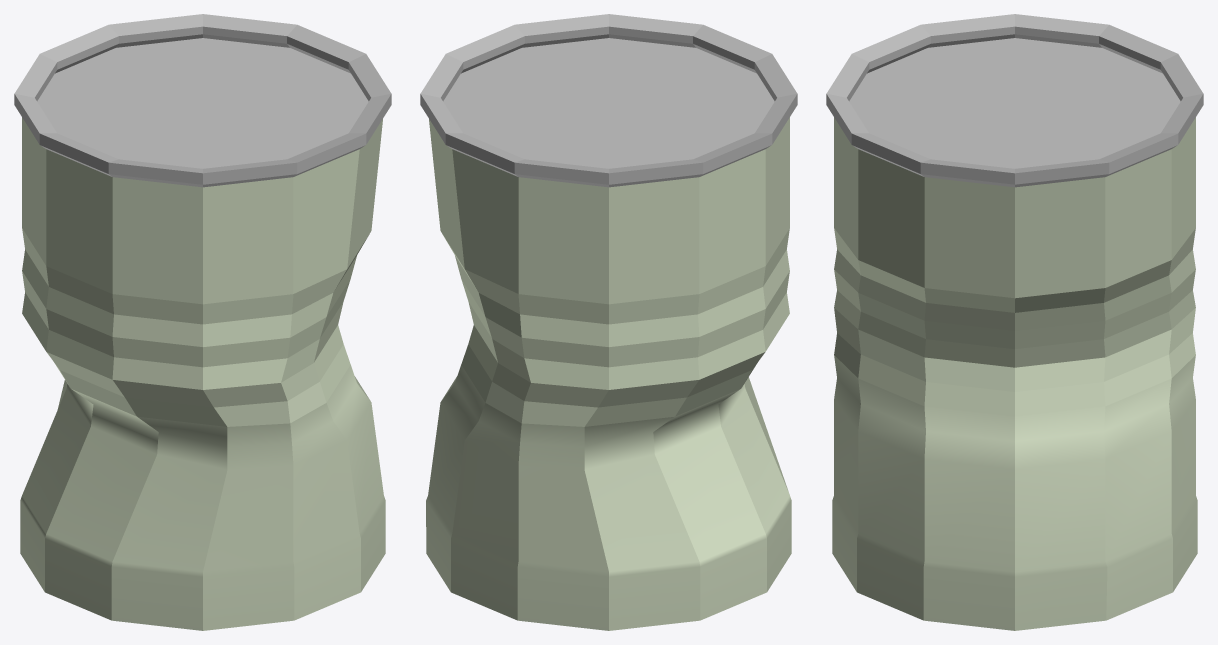
The model's file is Lata.fbx.
3 views of the same model, side by side, from view 1: azimuth 30°, elevation 25°; view 2: azimuth 150°, elevation 25°; view 3: azimuth 270°, elevation 25° (orthographic).
Visible parts, largest first — view 1: Can; view 2: Can; view 3: Can.
Boxes of the visible parts, x1,y1,x2,y2 form: Can: (14,14,391,630); Can: (420,14,797,630); Can: (826,14,1203,630).
Bounding box in the file's own units: 1.1 × 1.49 × 1.1.
